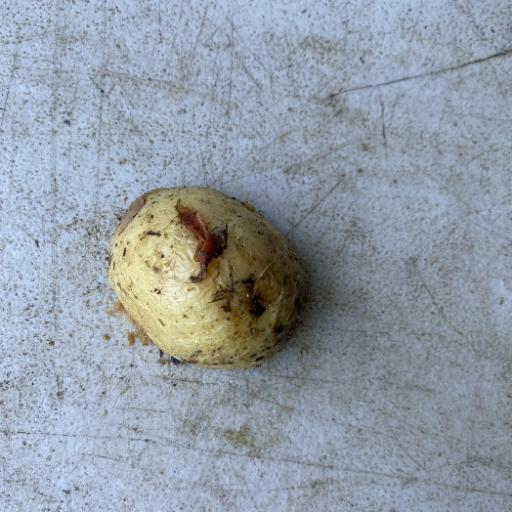Waste: (105, 184, 308, 370)
